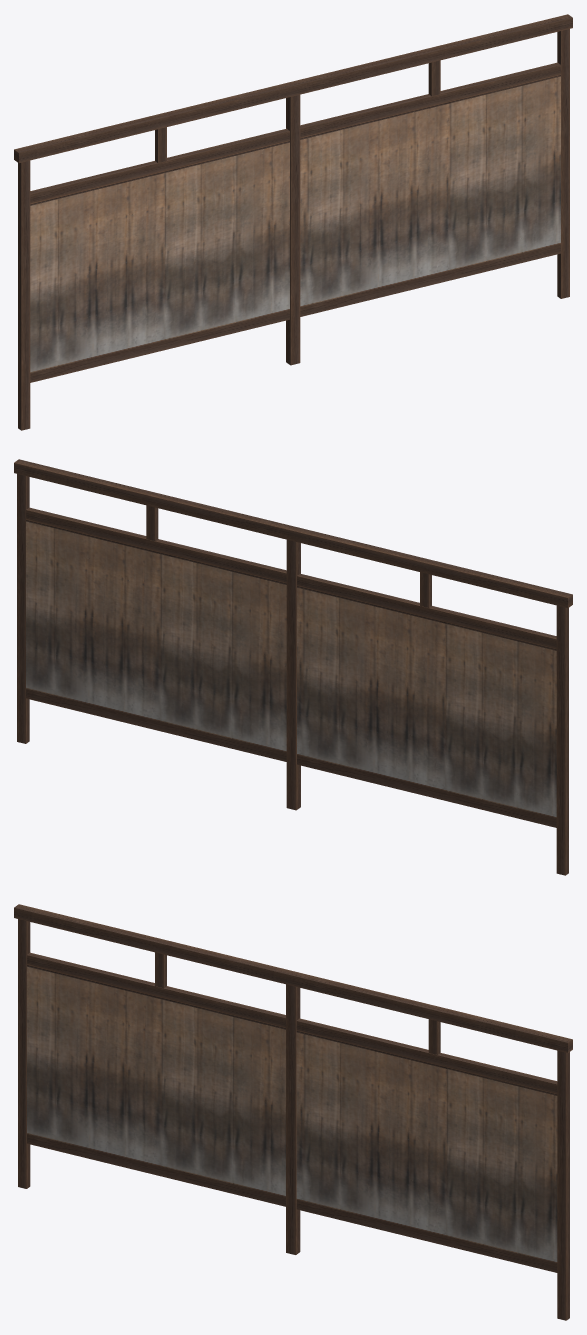
Rendered from fence02a_2t.fbx.
3 views of the same model, one above another, from view 1: azimuth 30°, elevation 25°; view 2: azimuth 150°, elevation 25°; view 3: azimuth 330°, elevation 25° (orthographic).
Parts seen in each view (by area): view 1: fence02a_2t; view 2: fence02a_2t; view 3: fence02a_2t.
Part boxes in pixels (box(x1,y1,x2,y2)): fence02a_2t: box(14, 14, 572, 430); fence02a_2t: box(14, 459, 572, 875); fence02a_2t: box(14, 904, 572, 1320).
Bounding box in the file's own units: 445 × 214 × 6.75.
